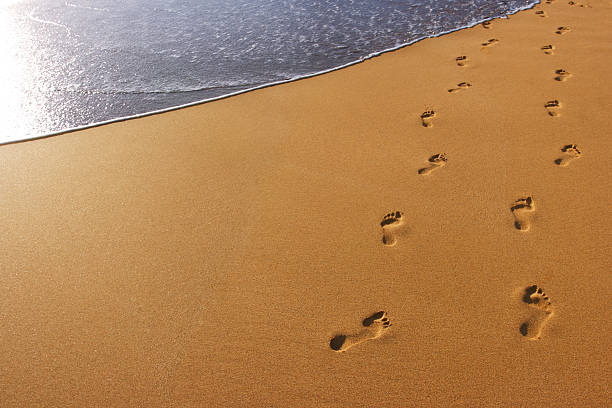human_footprint: (330, 311, 390, 351), (519, 285, 552, 339), (380, 211, 404, 246), (510, 196, 534, 230), (554, 144, 582, 167), (418, 153, 446, 174), (420, 109, 436, 127), (544, 99, 560, 116), (448, 82, 471, 92), (554, 69, 571, 81), (568, 0, 590, 7), (455, 55, 468, 66), (540, 44, 554, 54), (481, 38, 498, 46), (555, 26, 570, 34), (535, 10, 546, 17), (481, 21, 490, 28)
